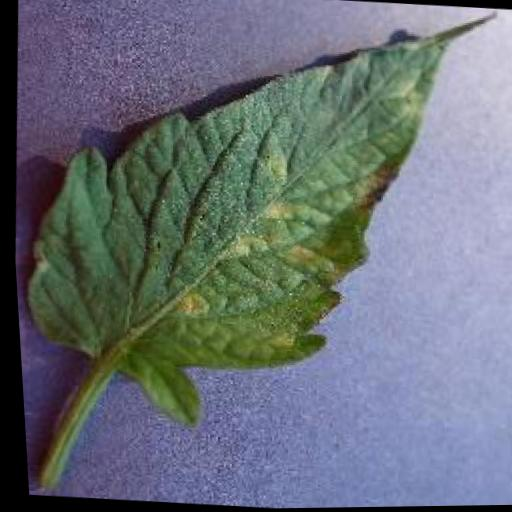Leaf Mold: (1, 11, 468, 442)
